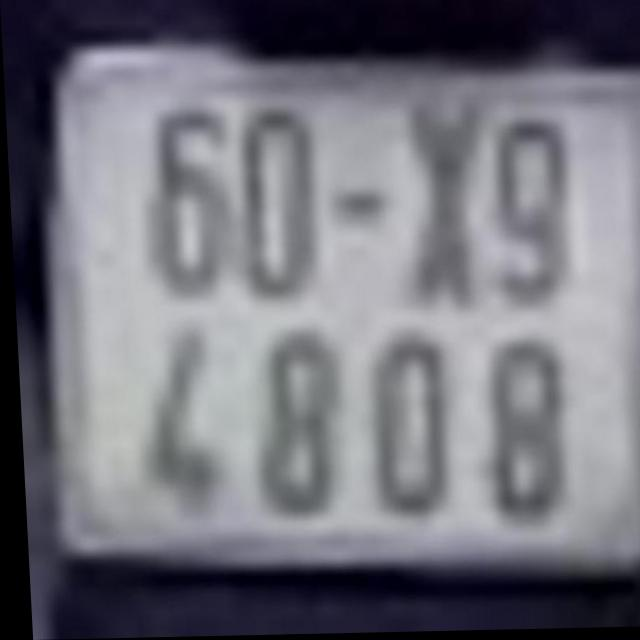0: (367, 331, 448, 533), (236, 106, 313, 302)
4: (138, 324, 217, 521)
6: (145, 108, 232, 297)
8: (246, 326, 333, 524), (479, 334, 566, 531)
9: (491, 117, 571, 315)
X: (398, 99, 487, 318)
